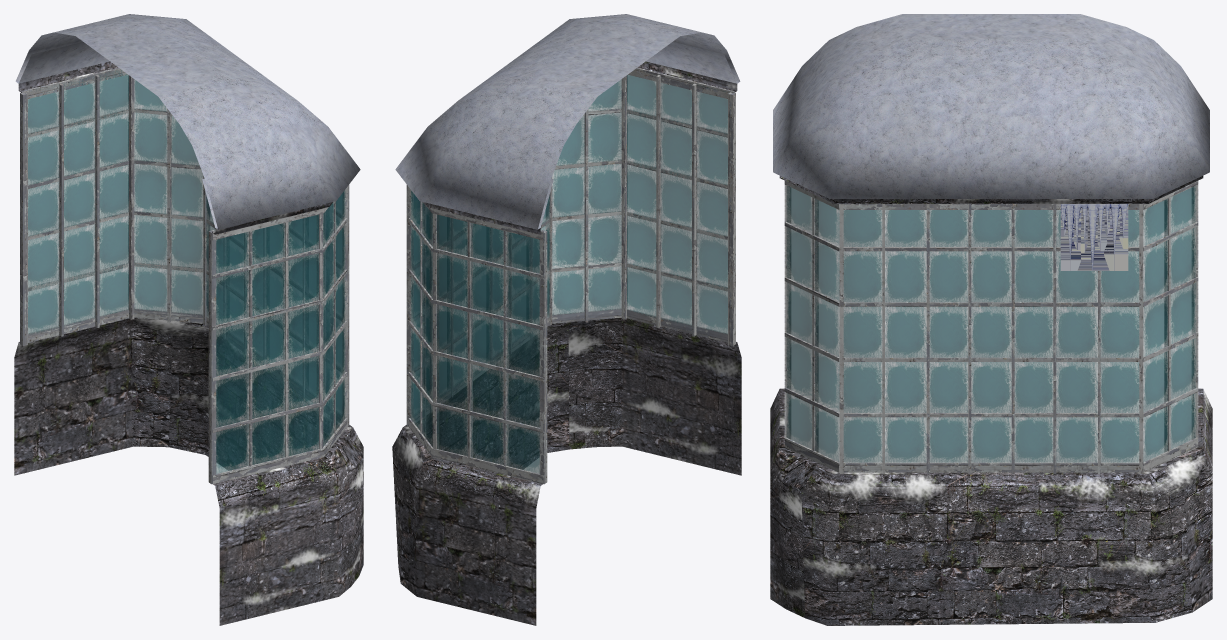
The model's file is annexe.fbx.
The picture shows the model from 3 angles, left to right: view 1: azimuth 30°, elevation 25°; view 2: azimuth 150°, elevation 25°; view 3: azimuth 270°, elevation 25°; orthographic projection. The views are drawn at different scales.
Visible parts, largest first — view 1: annexe, annexe_window; view 2: annexe, annexe_window; view 3: annexe, annexe_window.
Part boxes in pixels (x1,y1,x2,y2): annexe: (14,14,363,625); annexe_window: (28,69,345,473); annexe: (392,14,741,625); annexe_window: (410,75,729,473); annexe: (770,14,1212,625); annexe_window: (786,185,1196,462).
Size of the model in its own units: 105 by 283 by 218.
Materials: 5 (5 with a texture image).
